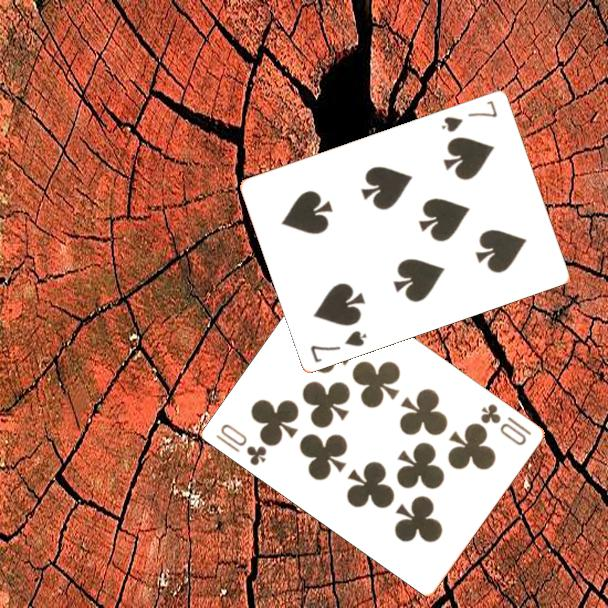c10: (477, 400, 535, 449), (213, 420, 270, 469)
s07: (307, 327, 370, 365), (438, 97, 500, 135)
